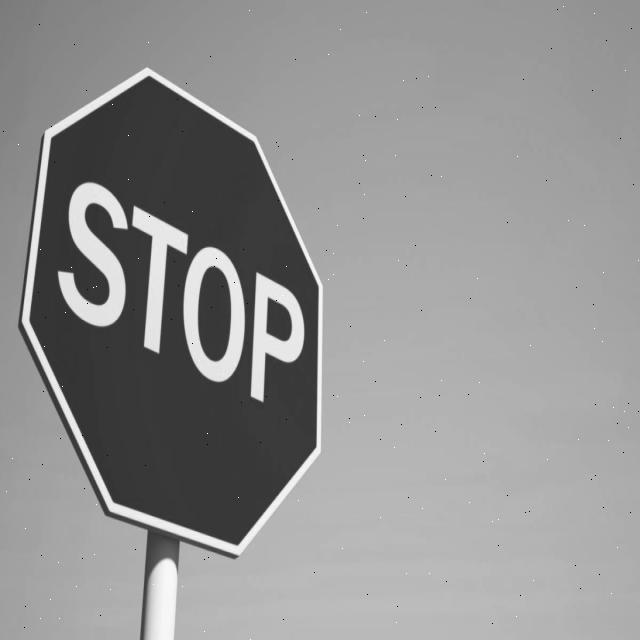Stop-sign: (12, 58, 336, 572)
